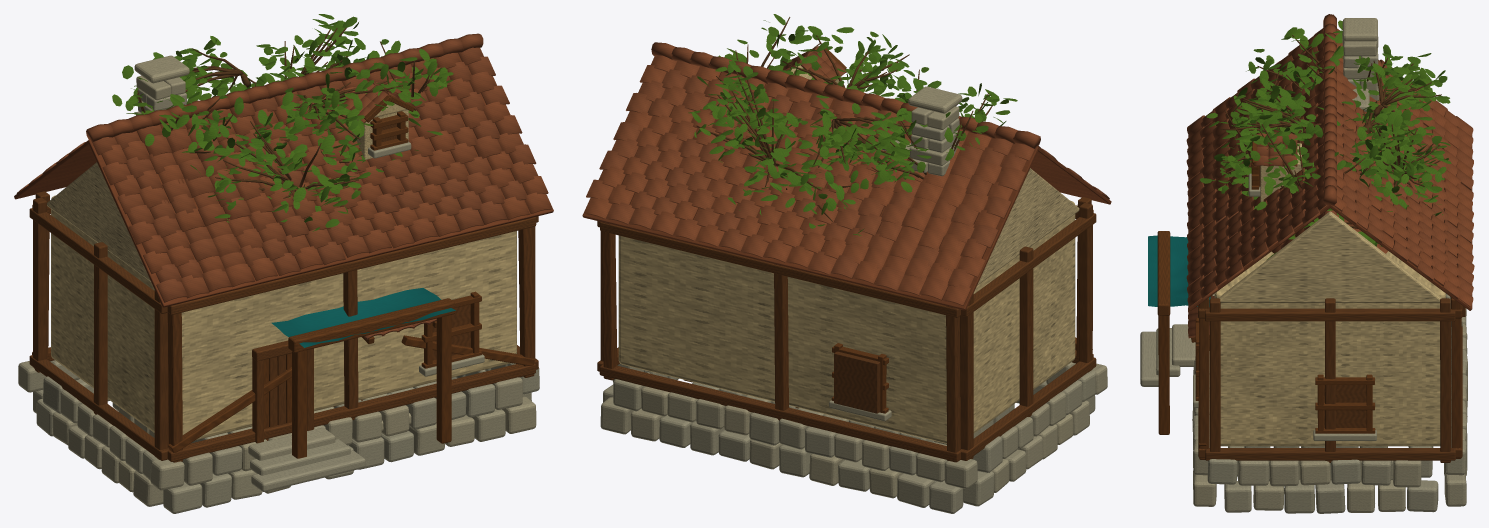
The model's file is scenery-kit.glb.
3 renders of one model, left to right at view 1: azimuth 30°, elevation 25°; view 2: azimuth 150°, elevation 25°; view 3: azimuth 270°, elevation 25°, orthographic. The views are drawn at different scales.
Visible parts, largest first — view 1: refuge_hall, alder_tree, cottage; view 2: refuge_hall, alder_tree, cottage, orchard_tree; view 3: refuge_hall, alder_tree, cottage, orchard_tree.
Boxes of the visible parts, box(x1,y1,x2,y2) form: refuge_hall: box(14, 33, 553, 513); alder_tree: box(112, 14, 453, 231); cottage: box(112, 148, 456, 443); refuge_hall: box(582, 42, 1111, 513); alder_tree: box(688, 14, 1017, 235); cottage: box(684, 140, 1014, 459); orchard_tree: box(753, 146, 896, 208); refuge_hall: box(1140, 14, 1474, 513); alder_tree: box(1199, 20, 1451, 259); cottage: box(1188, 88, 1433, 480); orchard_tree: box(1233, 130, 1433, 221).
Bounding box in the file's own units: 9.29 × 8.34 × 7.2.
Materials: 1 (1 with a texture image).
